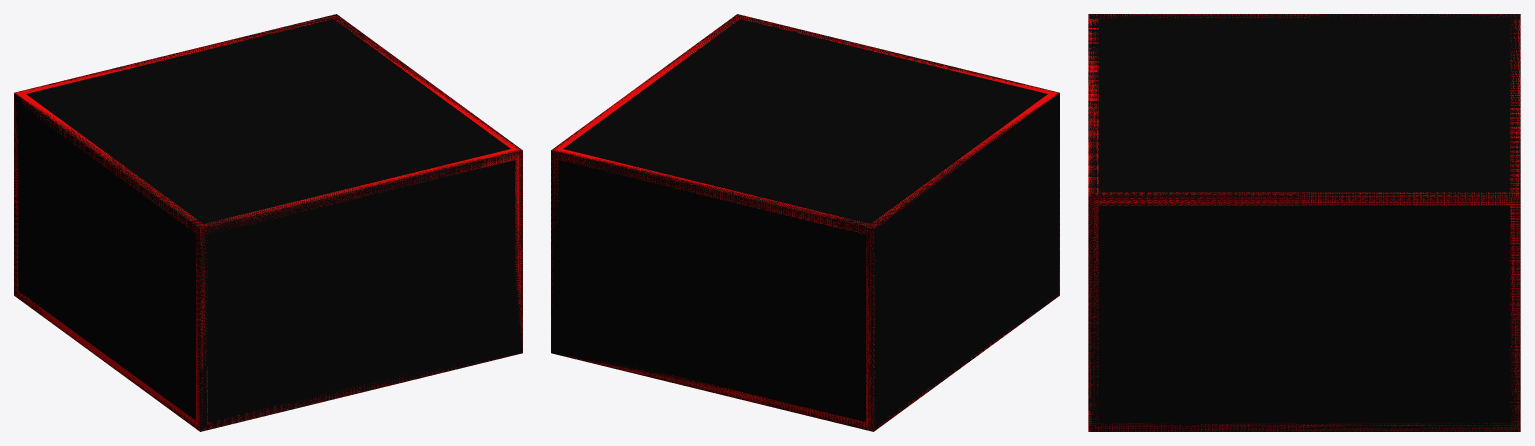
Rendered from GamePlatform2.FBX.
3 views of the same model, side by side, from view 1: azimuth 30°, elevation 25°; view 2: azimuth 150°, elevation 25°; view 3: azimuth 270°, elevation 25° (orthographic). The views are drawn at different scales.
Visible parts, largest first — view 1: Game Platform Structure; view 2: Game Platform Structure; view 3: Game Platform Structure.
Part boxes in pixels (x1,y1,x2,y2): Game Platform Structure: [14, 14, 522, 431]; Game Platform Structure: [551, 14, 1059, 431]; Game Platform Structure: [1088, 14, 1520, 431].
Size of the model in its own units: 100 by 60.13 by 100.
